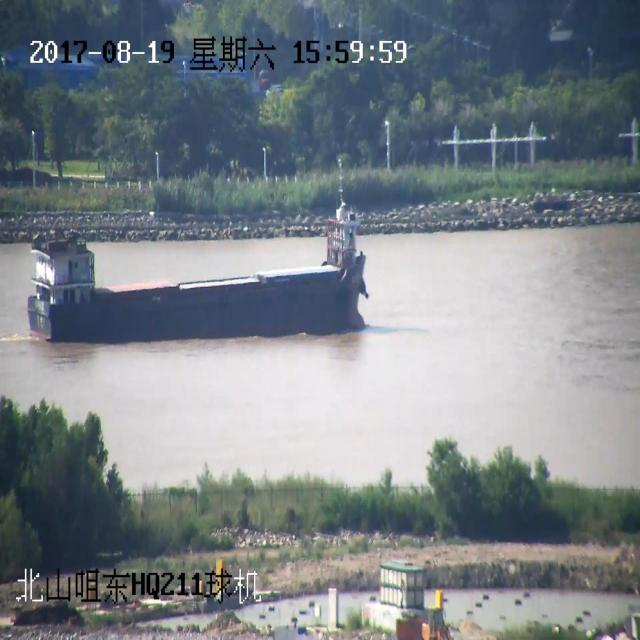houseboat: (19, 200, 374, 336)
